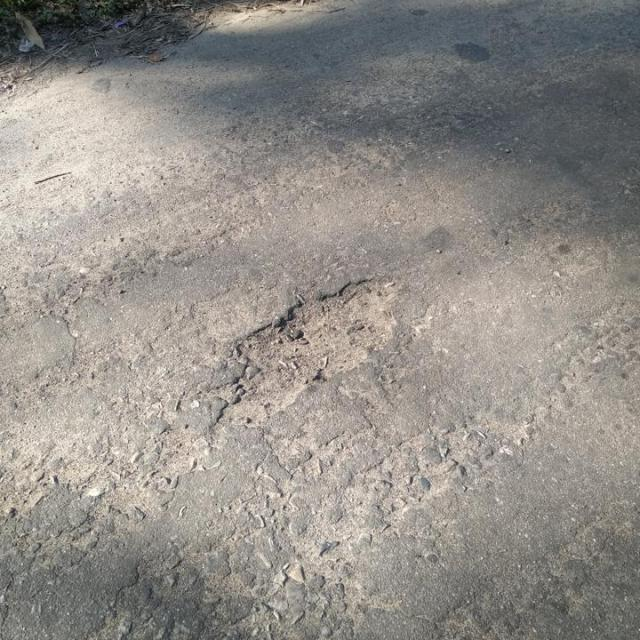Pothole: (210, 272, 405, 429)
